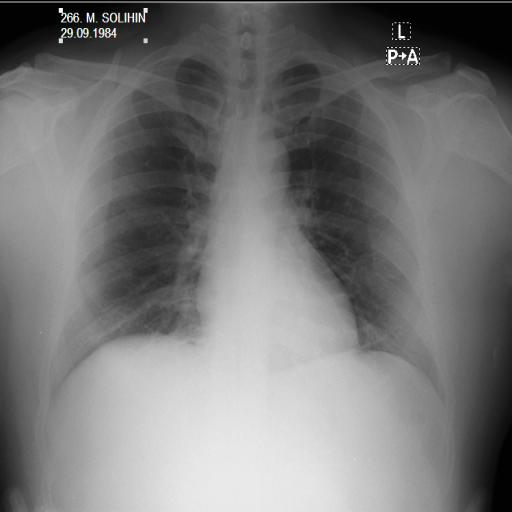normal: (45, 28, 453, 414)
